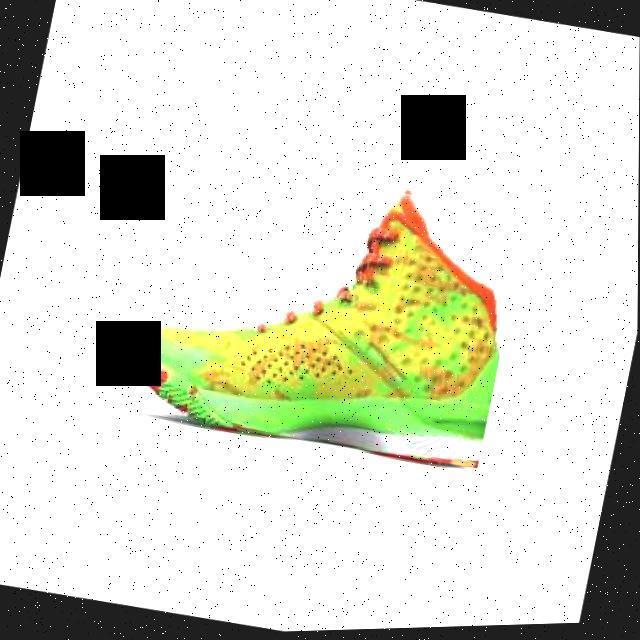shoe: (111, 140, 531, 480)
